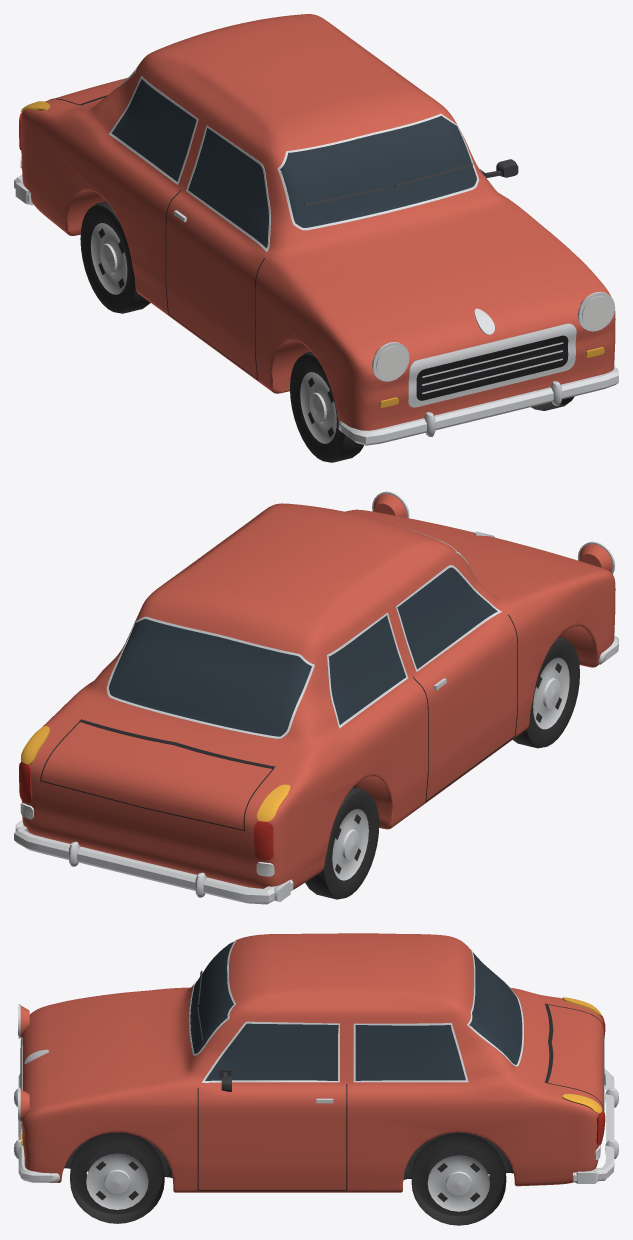
The model's file is trabant.glb.
3 views of the same model, one above another, from view 1: azimuth 30°, elevation 25°; view 2: azimuth 150°, elevation 25°; view 3: azimuth 270°, elevation 25° (orthographic). The views are drawn at different scales.
Visible parts, largest first — view 1: paint, glass, trim, wheel_rr, wheel_fr, headlights; view 2: paint, glass, trim, wheel_rr, wheel_fr, taillights, rear_blinker_right, rear_blinker_left; view 3: paint, glass, trim, wheel_rl, wheel_fl.
Boxes of the visible parts, x1,y1,x2,y2 form: paint: [21, 14, 615, 430]; glass: [111, 70, 476, 248]; trim: [14, 62, 618, 445]; wheel_rr: [80, 201, 150, 313]; wheel_fr: [290, 351, 363, 462]; headlights: [376, 296, 612, 378]; paint: [21, 503, 615, 889]; glass: [109, 551, 497, 736]; trim: [14, 491, 618, 904]; wheel_rr: [305, 787, 379, 899]; wheel_fr: [513, 637, 579, 748]; taillights: [19, 762, 273, 860]; rear_blinker_right: [257, 784, 290, 821]; rear_blinker_left: [21, 725, 50, 764]; paint: [21, 933, 603, 1192]; glass: [190, 942, 522, 1081]; trim: [14, 941, 618, 1190]; wheel_rl: [411, 1133, 506, 1225]; wheel_fl: [70, 1132, 164, 1223].
Bounding box in the file's own units: 1.59 × 1.44 × 3.58.
